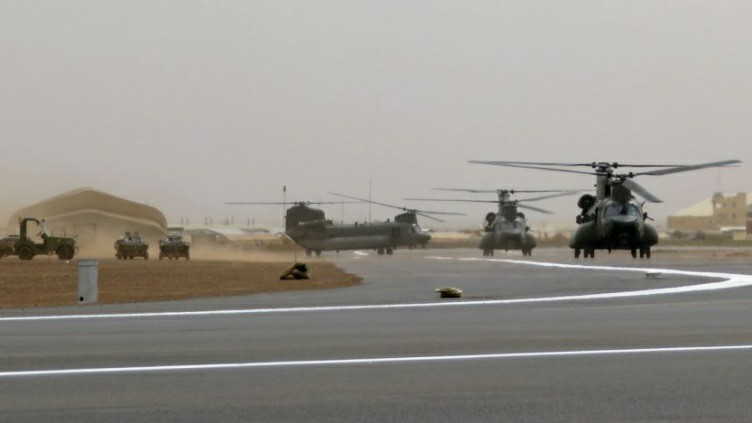chinook: (277, 191, 440, 266), (564, 160, 670, 272), (467, 186, 547, 259)
